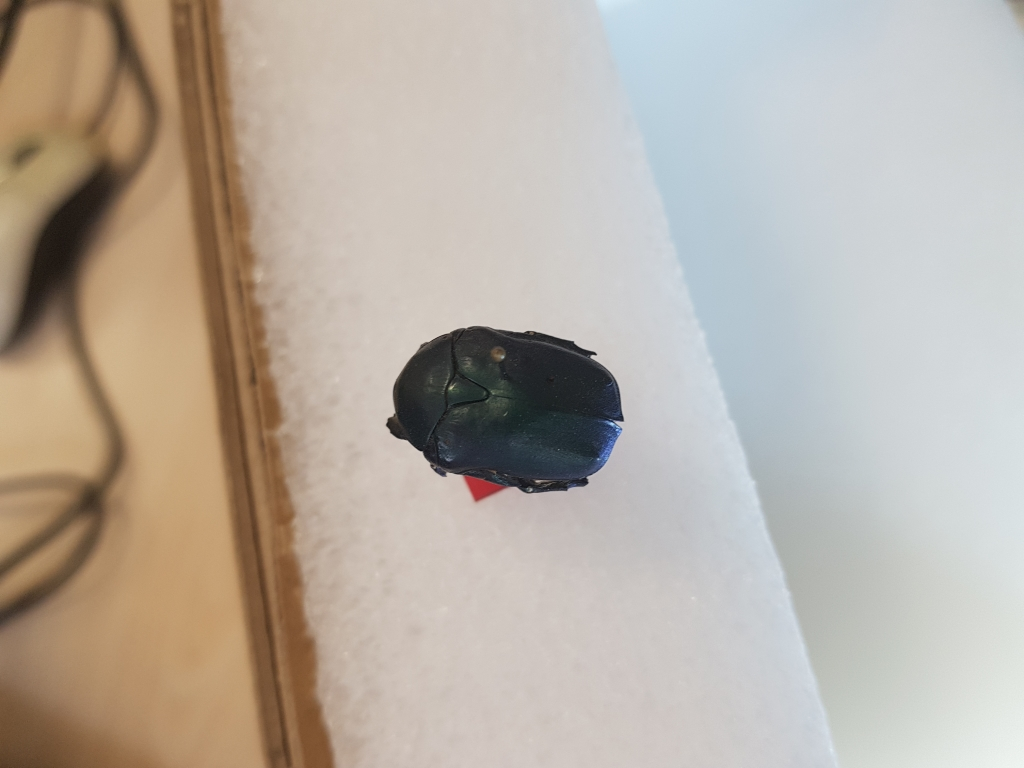Protaetia_afflicta: (374, 316, 627, 501)
